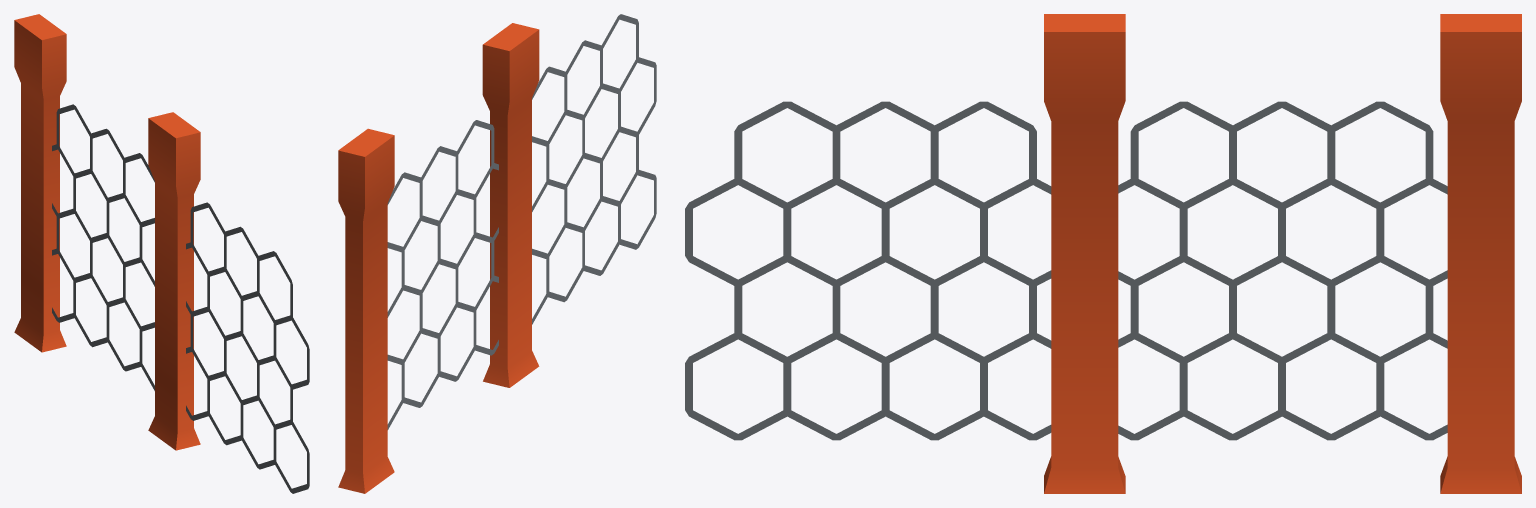
The model's file is Tejido_04.fbx.
3 views of the same model, side by side, from view 1: azimuth 30°, elevation 25°; view 2: azimuth 150°, elevation 25°; view 3: azimuth 270°, elevation 25° (orthographic). The views are drawn at different scales.
Parts seen in each view (by area): view 1: Tejido_04; view 2: Tejido_04; view 3: Tejido_04.
Boxes of the visible parts, bbox=[...] form: Tejido_04: bbox=[14, 14, 309, 493]; Tejido_04: bbox=[338, 14, 656, 493]; Tejido_04: bbox=[685, 14, 1521, 493].
Size of the model in its own units: 37.51 by 449 by 737.
